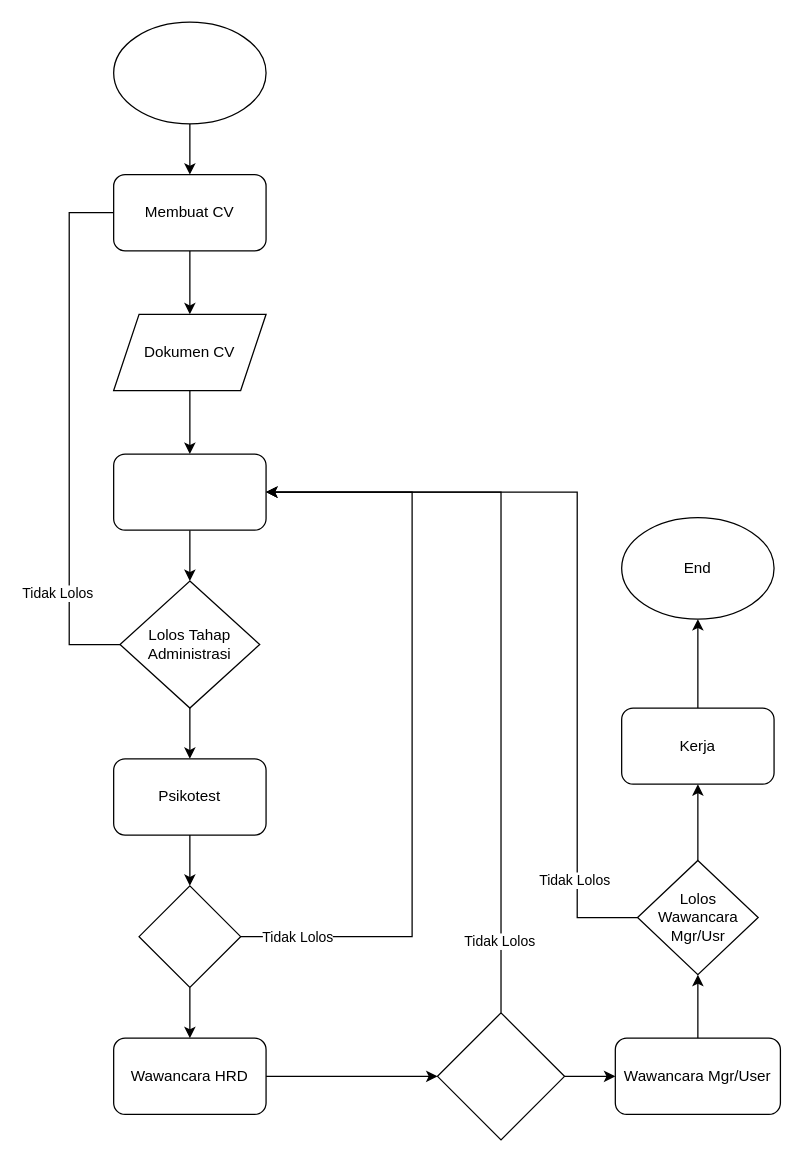
Image size: 803x1162. Some labels were removed from this diagram. Here are the shapes that lost their labels. From the top down, the box of each, then its label:
(112, 21, 266, 124): Start
(112, 453, 266, 530): Mengirim CV
(138, 885, 241, 987): Lolos Psikotest
(436, 1012, 565, 1140): Lolos Wawancara HRD
